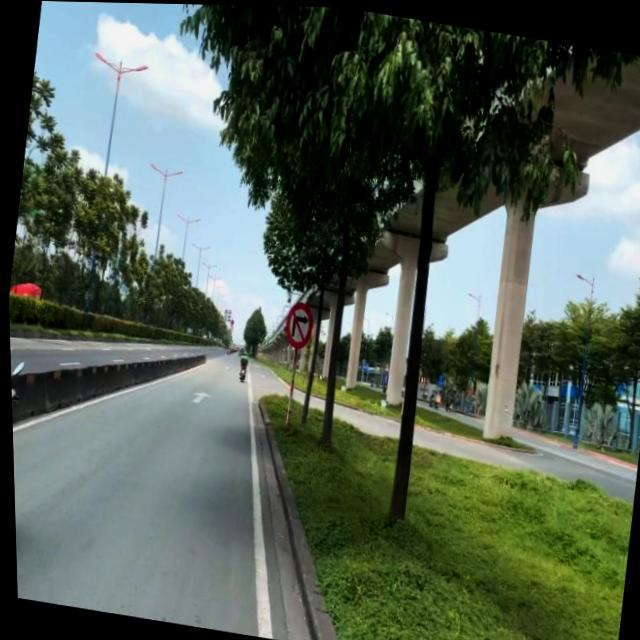Cam re phai: (280, 299, 315, 350)
